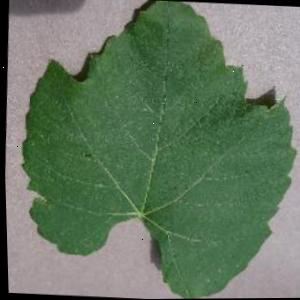Folha: (8, 0, 300, 300)
